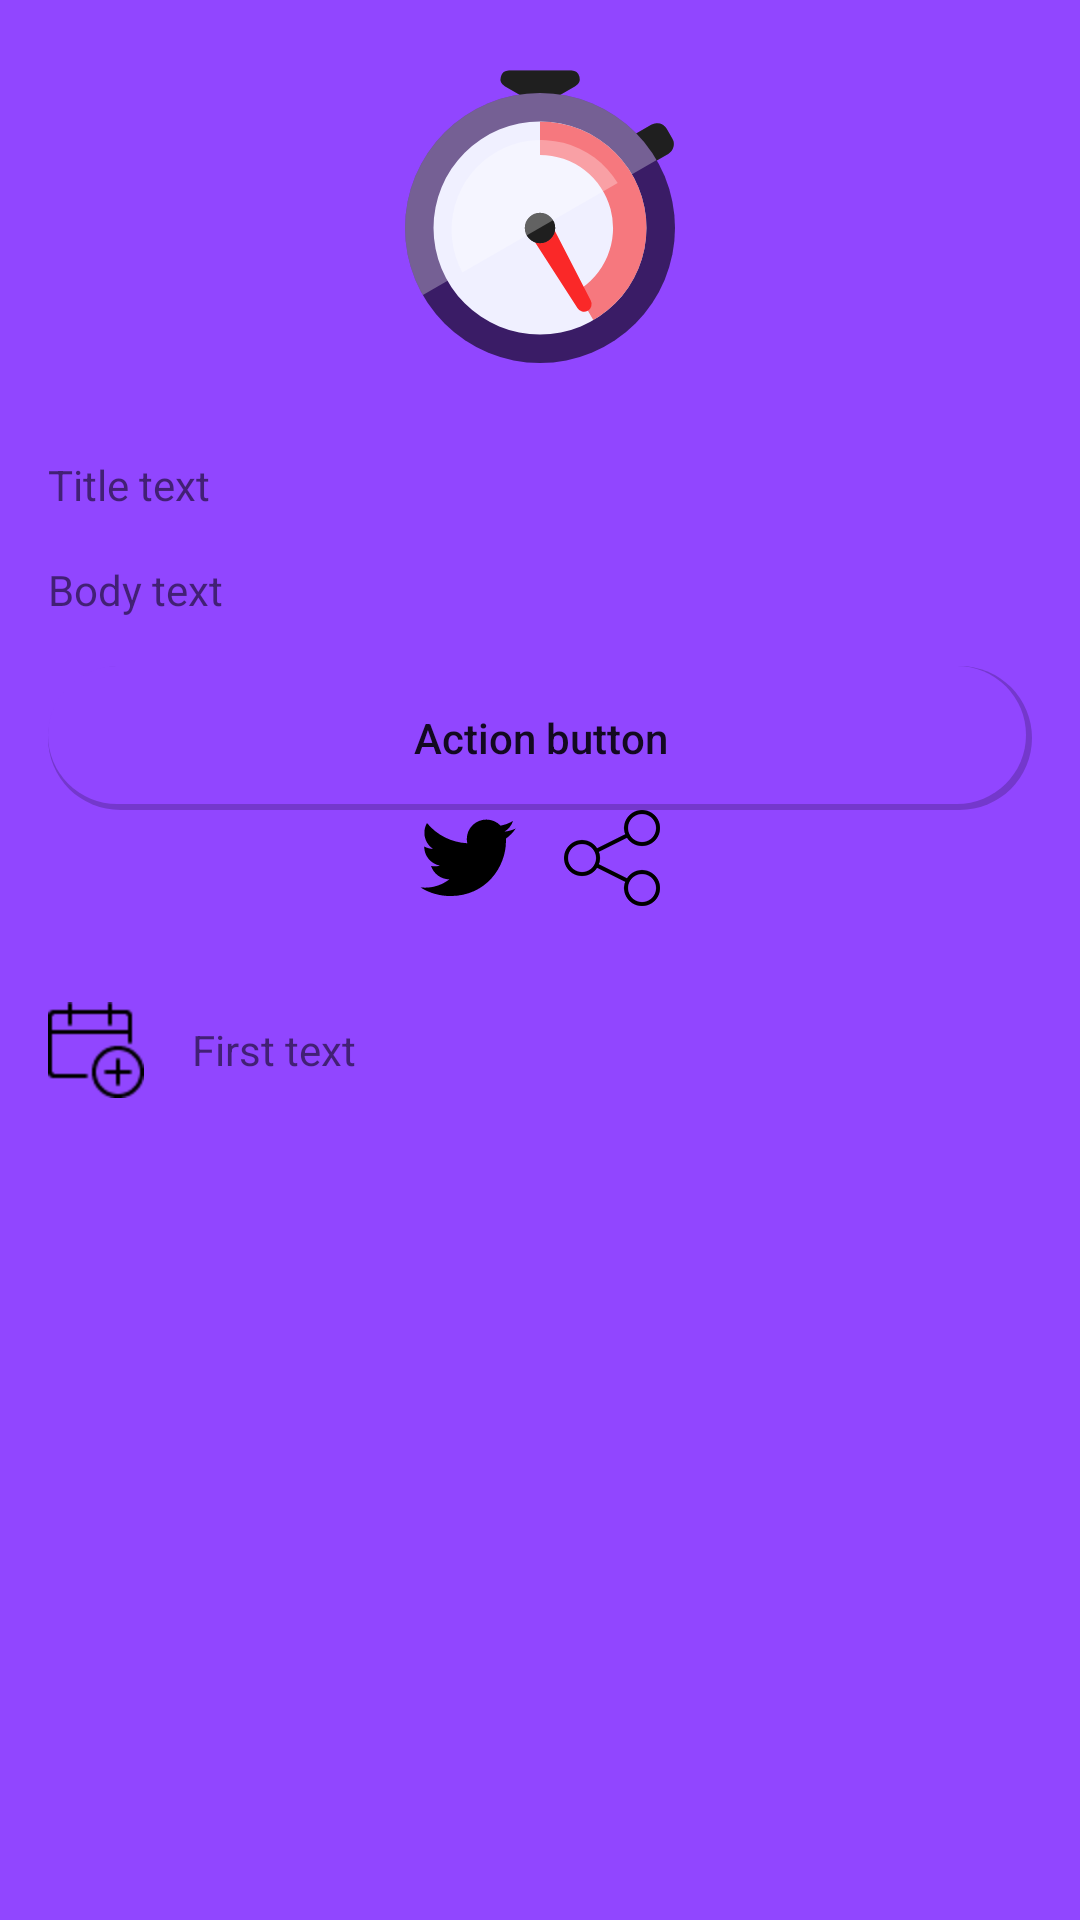

Where to tap for icons on this 1080px×1920px app screen, as (x=x, y=y):
calendar add: (x=96, y=1050)
share: (x=612, y=858)
timer: (x=540, y=216)
